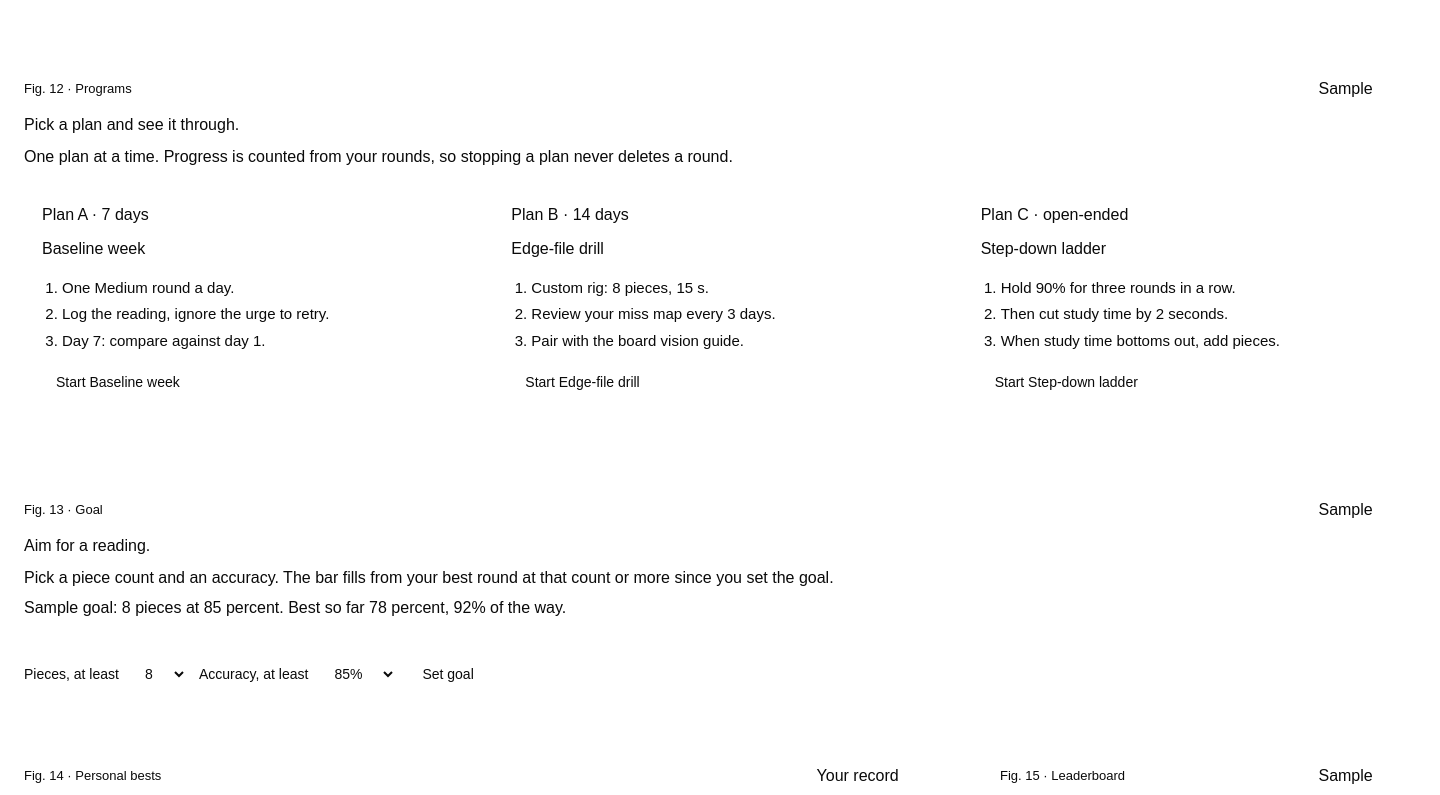
Test: starting and stopping a plan › starts a plan from its link: stores the plan, today and the moment, and opens the plan's first round
(page scrolled)
Click the link "Start Edge-file drill" at (582,382), box x1=525 y1=374 x2=640 y2=390
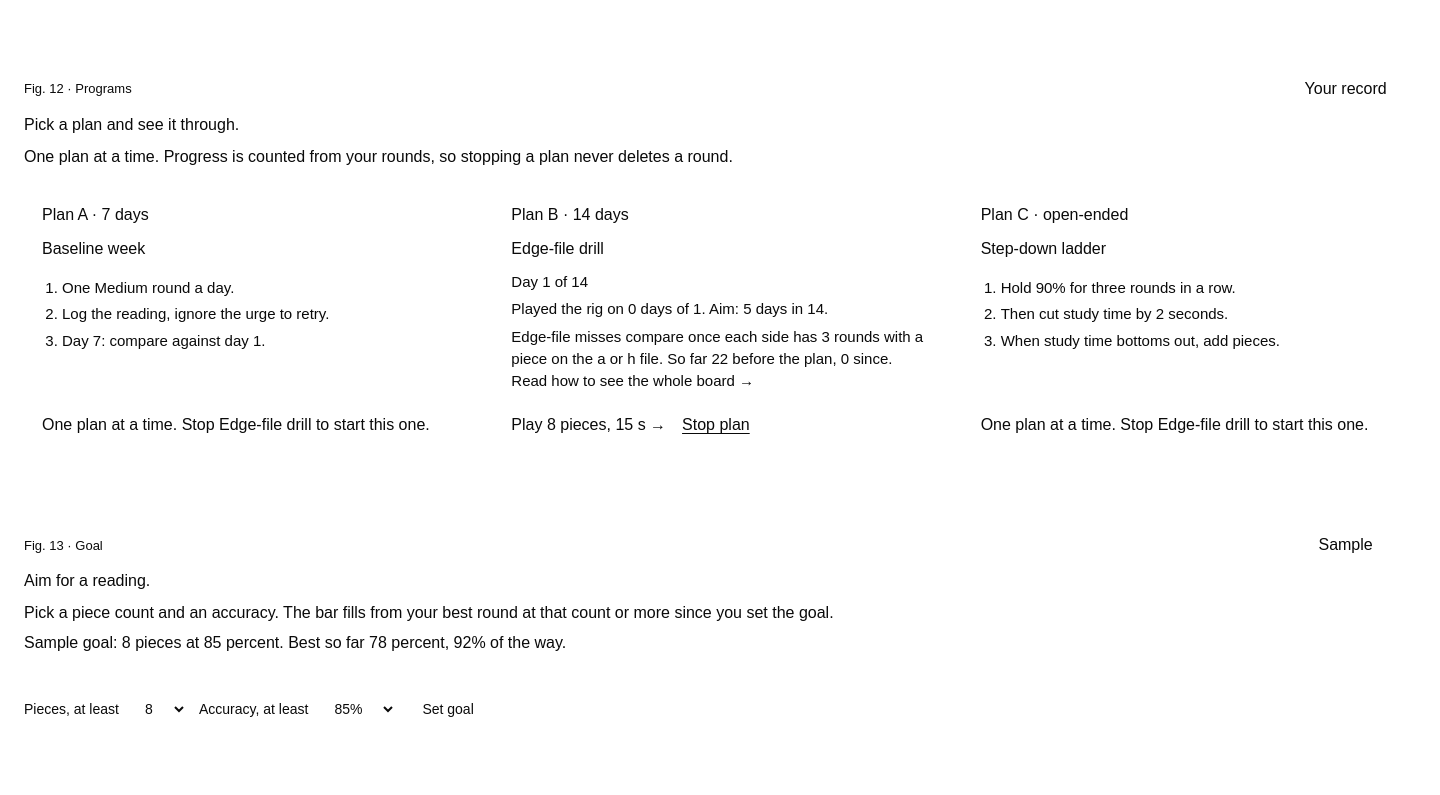
Check: the text "Day 1 of 14" is shown, box x1=511 y1=272 x2=588 y2=290
Check: the text "One plan at a time. Stop Edge-file drill to start this one." below "Day 7: compare against day 1." is shown, box x1=42 y1=416 x2=430 y2=433
Check: the text "Your record" is shown, box x1=1304 y1=80 x2=1387 y2=96
